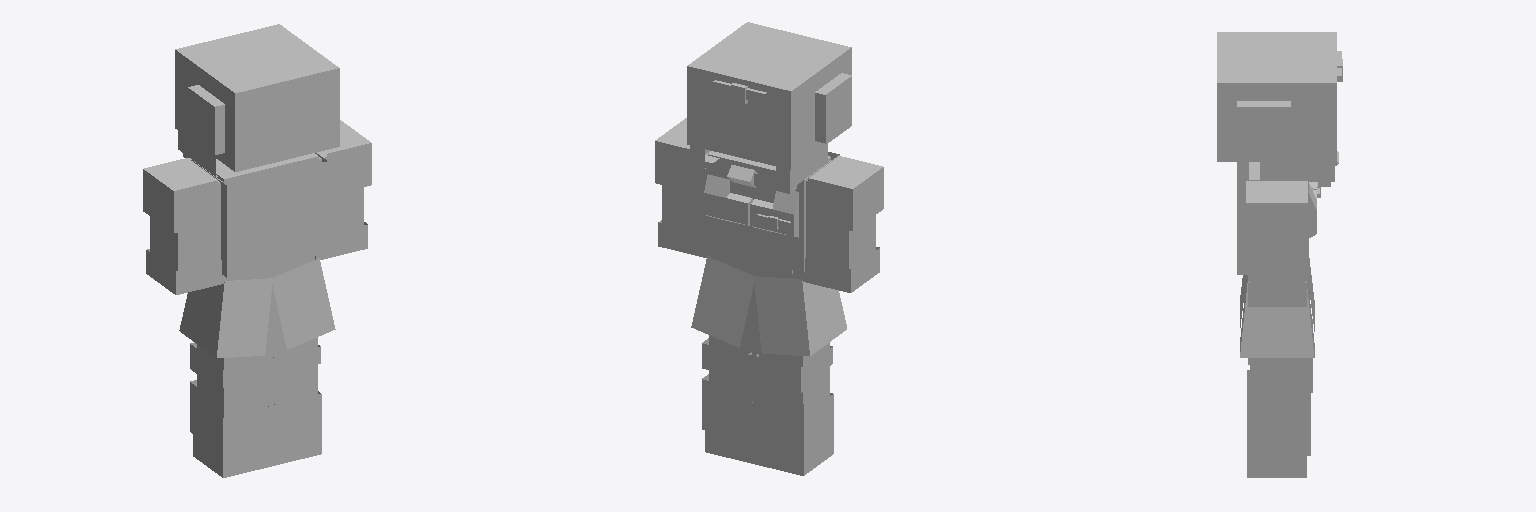
File: flakarmor.obj
3 views of the same model, side by side, from view 1: azimuth 30°, elevation 25°; view 2: azimuth 150°, elevation 25°; view 3: azimuth 270°, elevation 25° (orthographic).
Visible parts, largest first — view 1: helmet, Chestplate, cube.039_cube.049, cube.041_cube.051, cube.044_cube.054, cube.006, cube.019, cube.042_cube.052, cube.040_cube.050, cube.008, leftpad, cube.016 (+8 smaller); view 2: helmet, cube.039_cube.049, Chestplate, cube.041_cube.051, cube.006, cube.045_cube.055, cube.040_cube.050, cube.044_cube.054, cube.020, cube.008, leftpad, cube.042_cube.052 (+12 smaller); view 3: helmet, cube.008, cube.006, rightpad, cube.019, cube.007, cube.016, rightcheek, cuff, Chestplate, cube.020, cube.017 (+1 smaller).
Boxes of the visible parts, x1,y1,x2,y2 form: helmet: [175, 24, 339, 171]; Chestplate: [191, 153, 327, 277]; cube.039_cube.049: [179, 278, 271, 357]; cube.041_cube.051: [143, 158, 217, 232]; cube.044_cube.054: [193, 402, 274, 477]; cube.006: [272, 258, 335, 349]; cube.019: [268, 391, 321, 466]; cube.042_cube.052: [197, 309, 272, 417]; cube.040_cube.050: [150, 162, 223, 270]; cube.008: [324, 120, 371, 195]; leftpad: [188, 85, 224, 154]; cube.016: [271, 308, 317, 404]; helmet: [687, 22, 851, 169]; cube.039_cube.049: [754, 276, 846, 355]; Chestplate: [703, 152, 839, 272]; cube.041_cube.051: [808, 156, 883, 230]; cube.006: [691, 256, 754, 347]; cube.045_cube.055: [757, 393, 814, 453]; cube.040_cube.050: [805, 160, 875, 268]; cube.044_cube.054: [751, 393, 833, 475]; cube.020: [702, 374, 747, 440]; cube.008: [655, 118, 699, 193]; leftpad: [815, 73, 851, 143]; cube.042_cube.052: [754, 308, 829, 406]; helmet: [1217, 32, 1336, 161]; cube.008: [1246, 181, 1307, 245]; cube.006: [1240, 275, 1314, 357]; rightpad: [1237, 101, 1290, 154]; cube.019: [1247, 392, 1306, 477]; cube.007: [1250, 246, 1304, 282]; cube.016: [1250, 358, 1304, 417]; rightcheek: [1260, 162, 1334, 181]; cuff: [1248, 275, 1306, 306]; Chestplate: [1237, 162, 1308, 274]; cube.020: [1287, 405, 1310, 455]; cube.017: [1248, 370, 1290, 387].
Bounding box in the file's own units: 1.07 × 2.04 × 0.5886.